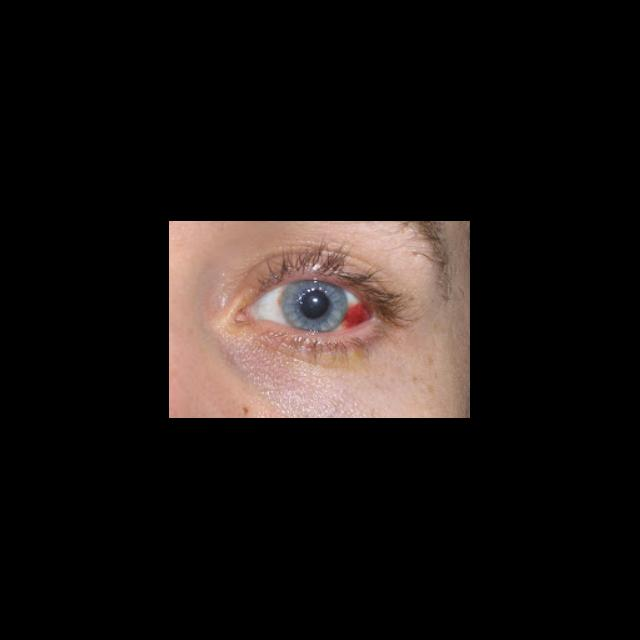eye: (249, 280, 370, 333)
iris: (280, 281, 349, 332)
